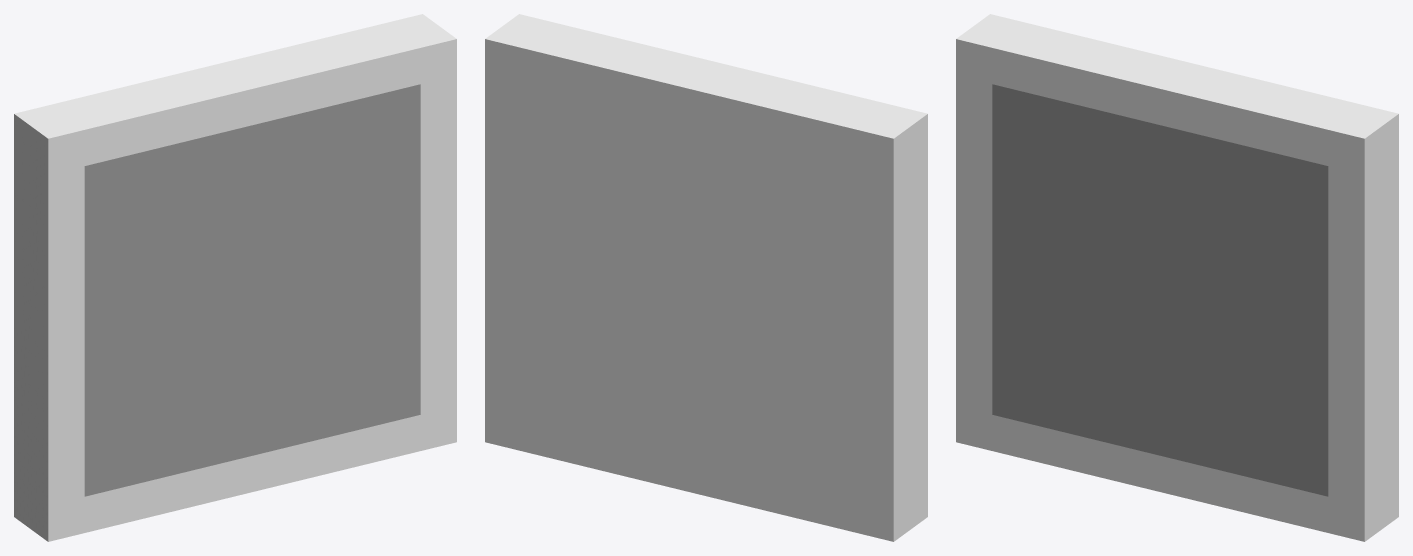
File: FocoLuz02.fbx
The picture shows the model from 3 angles, left to right: view 1: azimuth 30°, elevation 25°; view 2: azimuth 150°, elevation 25°; view 3: azimuth 330°, elevation 25°; orthographic projection.
Parts seen in each view (by area): view 1: FocoLuz02; view 2: FocoLuz02; view 3: FocoLuz02.
Part boxes in pixels (x1,y1,x2,y2): FocoLuz02: (14, 14, 456, 541); FocoLuz02: (485, 14, 927, 541); FocoLuz02: (956, 14, 1398, 541).
Bounding box in the file's own units: 69.01 × 65.05 × 10.
